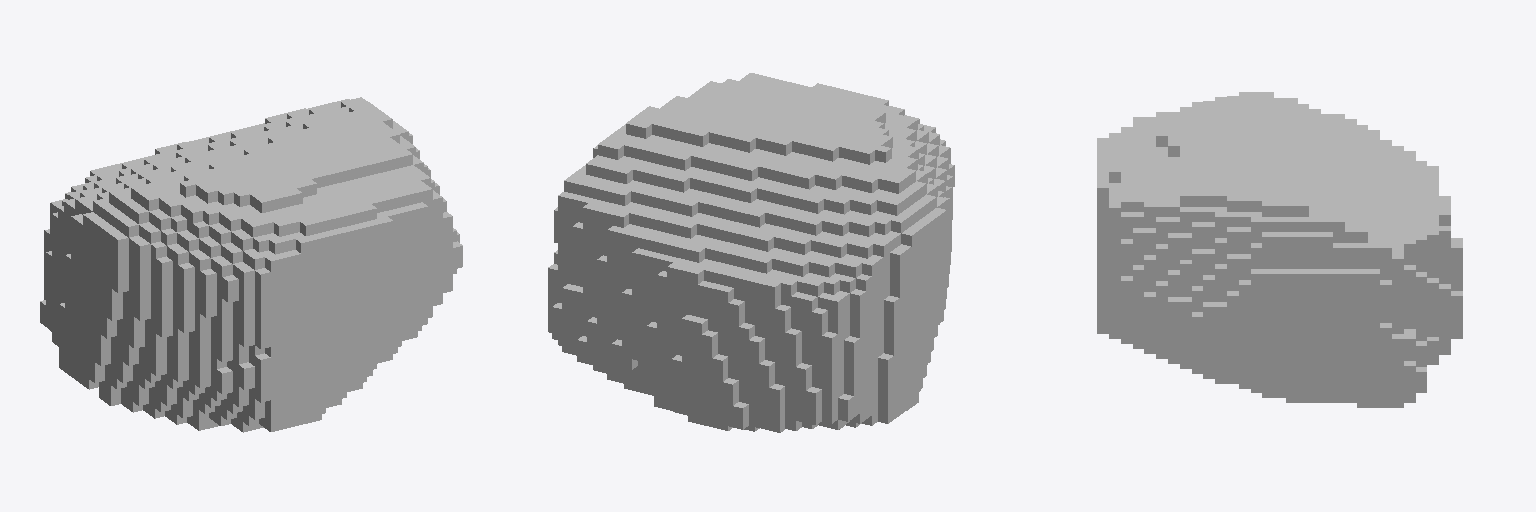
File: rock 2.obj
The picture shows the model from 3 angles: view 1: azimuth 30°, elevation 25°; view 2: azimuth 150°, elevation 25°; view 3: azimuth 270°, elevation 25°; orthographic projection.
Visible parts, largest first — view 1: object 1; view 2: object 1; view 3: object 1.
Part boxes in pixels (x1,y1,x2,y2): object 1: (40, 97, 462, 432); object 1: (548, 73, 954, 432); object 1: (1097, 92, 1462, 407).
Size of the model in its own units: 3.1 by 2.1 by 3.1.